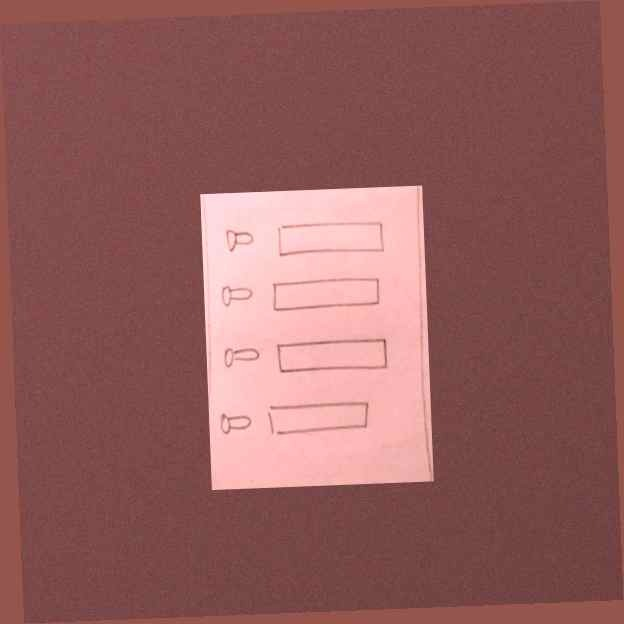switch: (220, 340, 260, 372), (217, 407, 256, 439), (219, 279, 254, 311), (220, 225, 255, 256)
text_input: (274, 333, 391, 378), (270, 272, 382, 315), (275, 219, 386, 262), (265, 398, 372, 435)
